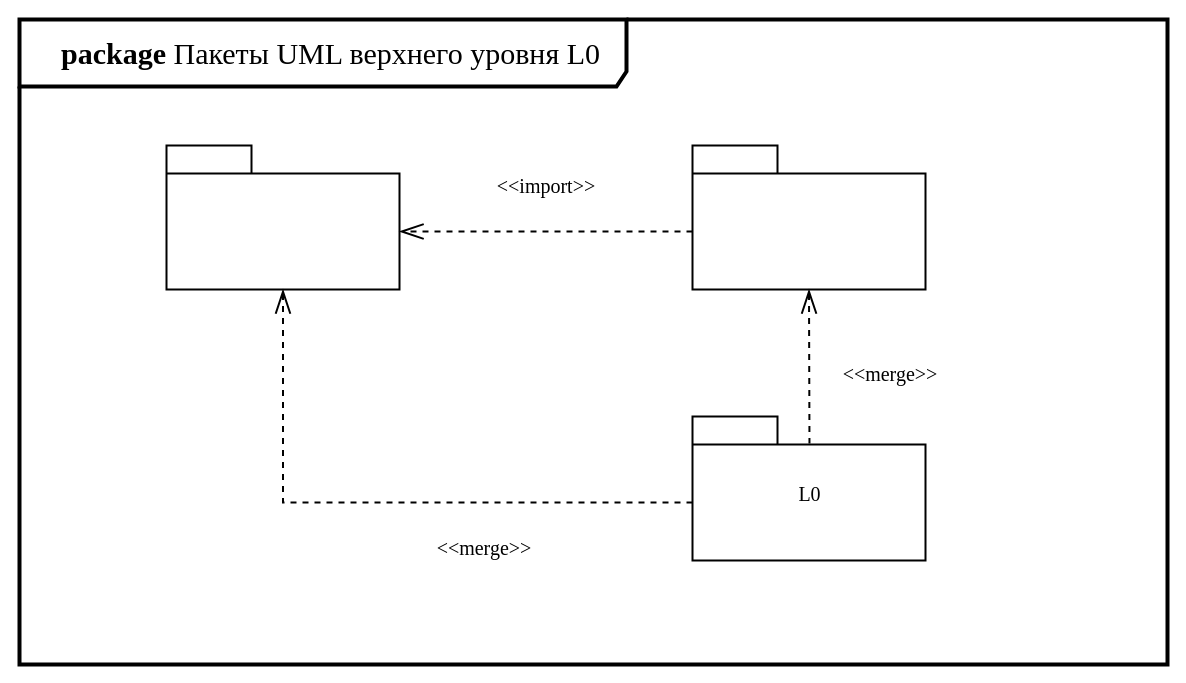
This 1186x683 diagram has some shape labels left out. Each missing label, with the centre of its shape:
"Basic" goes at (x=808, y=217).
"PrimitiveTypes" goes at (x=282, y=217).
